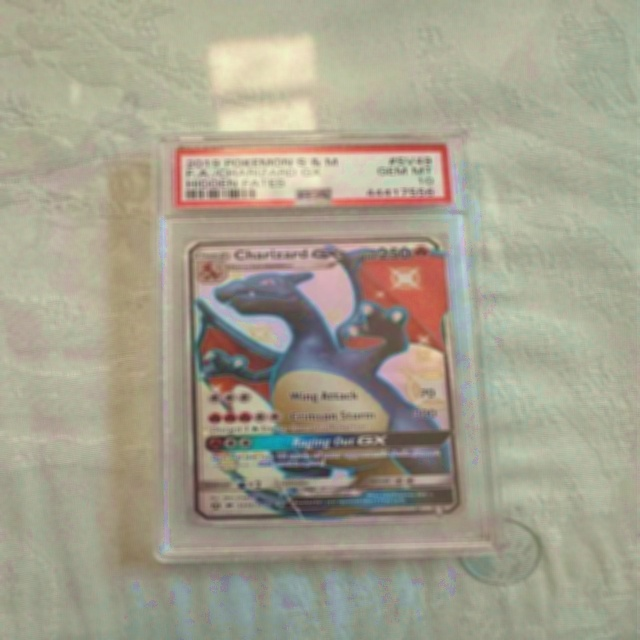card: (184, 234, 467, 524)
